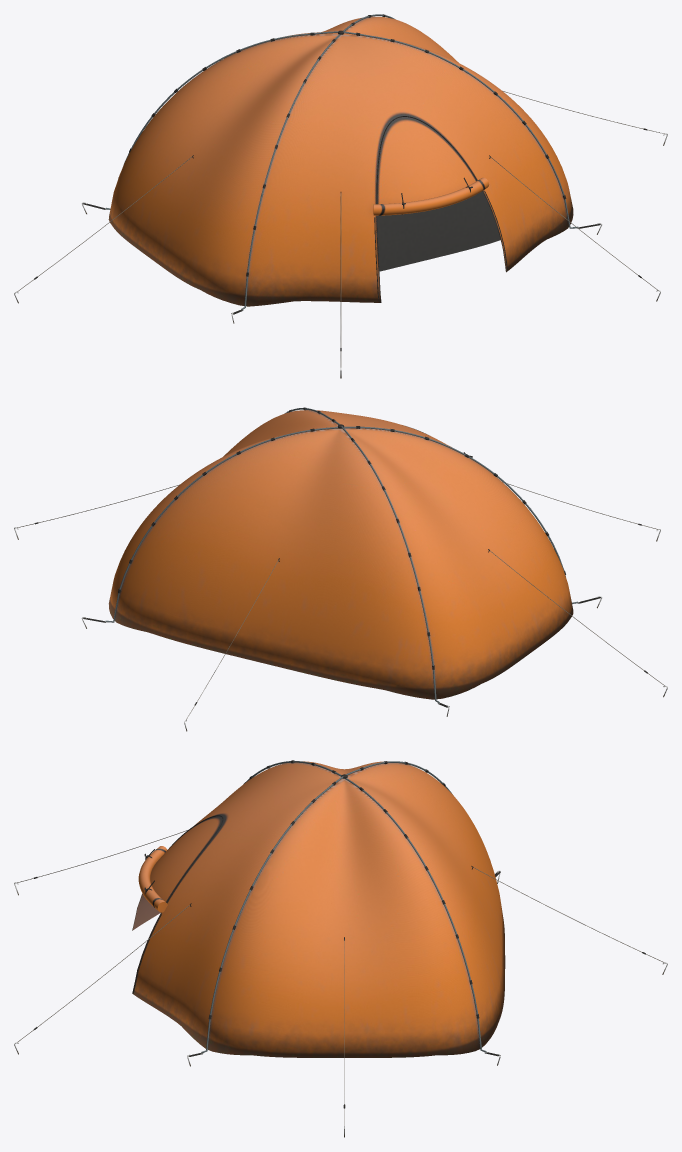
File: corner_camp_tent_dome_orange.glb
3 renders of one model, top to bottom at view 1: azimuth 30°, elevation 25°; view 2: azimuth 150°, elevation 25°; view 3: azimuth 270°, elevation 25°, orthographic. The views are drawn at different scales.
Visible parts, largest first — view 1: Tent; view 2: Tent; view 3: Tent.
Boxes of the visible parts, x1,y1,x2,y2 form: Tent: [14, 14, 667, 378]; Tent: [14, 407, 667, 731]; Tent: [14, 760, 667, 1137].
Bounding box in the file's own units: 4.2 × 1.19 × 3.52.
Materials: 1 (1 with a texture image).
